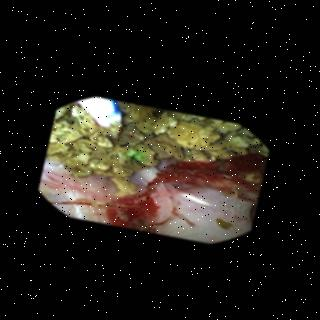fiber: (79, 100, 123, 125)
laser: (133, 150, 146, 159)
stone: (51, 101, 269, 196), (219, 215, 235, 228)
